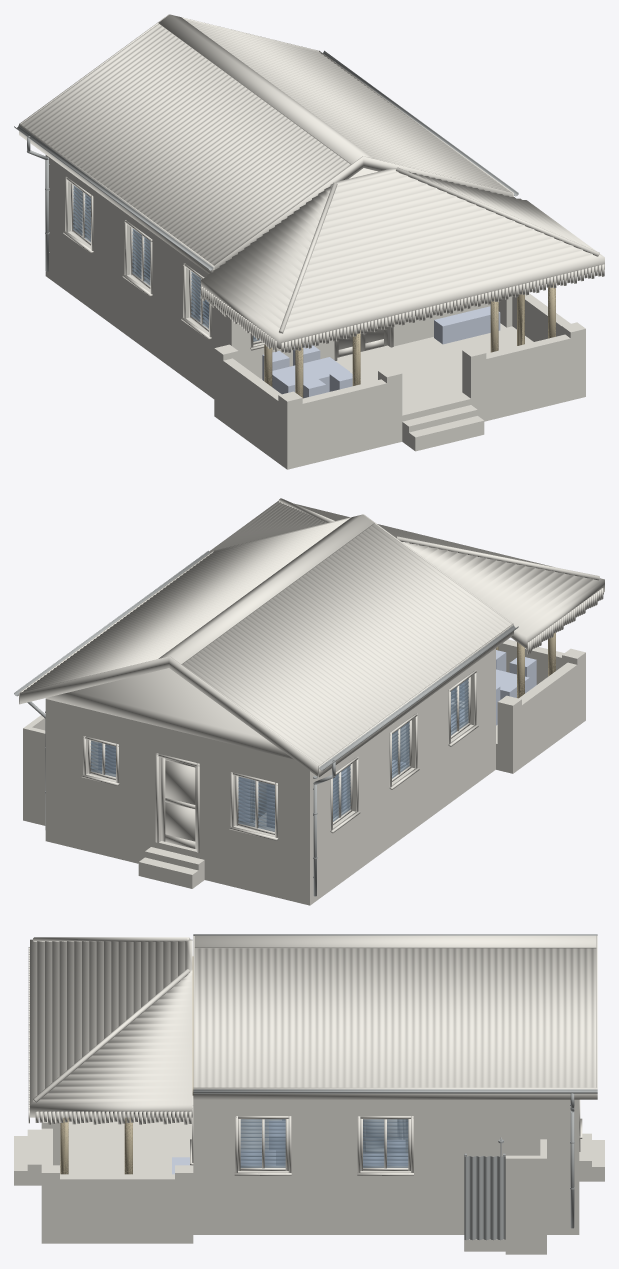
Rendered from riviere_noire_H06.glb.
3 views of the same model, one above another, from view 1: azimuth 30°, elevation 25°; view 2: azimuth 150°, elevation 25°; view 3: azimuth 270°, elevation 25° (orthographic). The views are drawn at different scales.
Parts seen in each view (by area): view 1: corrugated_rust, thatch_palm, Foundation_Slab, Veranda_Parapet, Shell_Walls_Ceiling, new_paint_red_oxide_peeling, galvanized_steel, wood_weathered, glass, Ph_hall_bench_01, Ph_dining_dining_table_01; view 2: corrugated_rust, Shell_Walls_Ceiling, new_paint_red_oxide_peeling, Foundation_Slab, thatch_palm, new_plaster_sage_green_weathered, Veranda_Parapet, glass, DoorLeaf_02_R_in, galvanized_steel, render_spalled_old, wood_weathered (+3 smaller); view 3: corrugated_rust, Shell_Walls_Ceiling, thatch_palm, Foundation_Slab, new_paint_red_oxide_peeling, Veranda_Parapet, galvanized_steel, glass, render_spalled_old, wood_weathered, DoorLeaf_06_L_in, Ph_living_armchair_01 (+3 smaller).
Part boxes in pixels (x1,y1,x2,y2): corrugated_rust: (21,19,509,265); thatch_palm: (200,167,604,352); Foundation_Slab: (45,253,585,469); Veranda_Parapet: (214,290,585,443); Shell_Walls_Ceiling: (45,155,490,378); new_paint_red_oxide_peeling: (19,14,513,360); galvanized_steel: (14,50,518,271); wood_weathered: (264,279,566,397); glass: (73,185,260,341); Ph_hall_bench_01: (434,306,500,344); Ph_dining_dining_table_01: (272,357,349,394); corrugated_rust: (23,518,511,765); Shell_Walls_Ceiling: (45,648,495,879); new_paint_red_oxide_peeling: (19,514,513,852); Foundation_Slab: (45,695,585,905); thatch_palm: (209,498,604,654); new_plaster_sage_green_weathered: (45,668,293,759); Veranda_Parapet: (497,639,585,747); glass: (90,678,468,831); DoorLeaf_02_R_in: (161,757,196,849); galvanized_steel: (14,550,518,896); render_spalled_old: (23,715,45,825); wood_weathered: (496,632,555,698); corrugated_rust: (194,948,596,1087); Shell_Walls_Ceiling: (193,1099,579,1207); thatch_palm: (28,937,192,1124); Foundation_Slab: (14,1117,604,1243); new_paint_red_oxide_peeling: (190,935,597,1175); Veranda_Parapet: (41,1117,193,1216); galvanized_steel: (193,934,597,1240); glass: (240,1119,408,1167); render_spalled_old: (505,1139,546,1254); wood_weathered: (60,956,193,1174); DoorLeaf_06_L_in: (363,1119,401,1153); Ph_living_armchair_01: (269,1121,285,1165).
Bounding box in the file's own units: 8.73 × 5.58 × 12.86.
